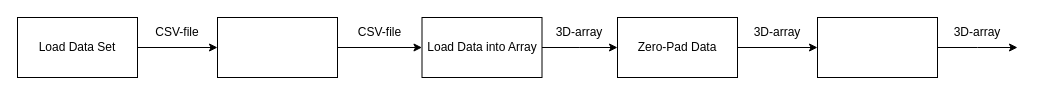
Image size: 1043x95. Some labels were removed from this diagram. The centre of each missing label's shape, as x and y in pixels:
Determine Start, End and Step Values: point (277, 47)
Introduce Errors (Optional): point (877, 47)
